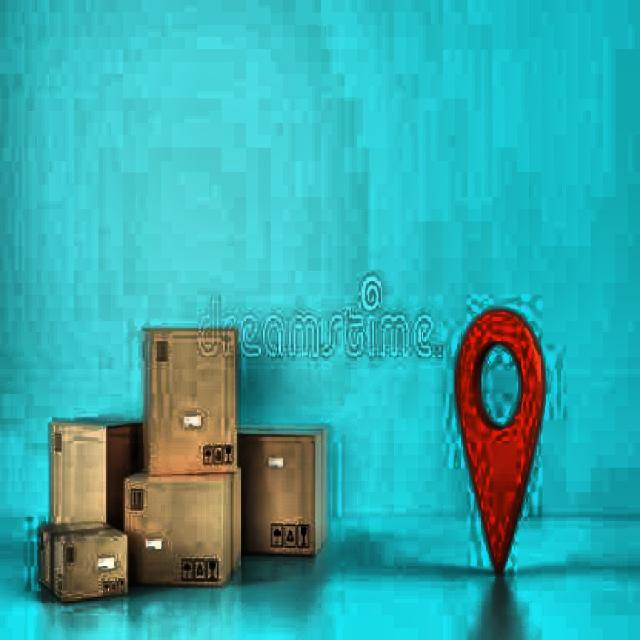Cardbox: (58, 322, 336, 596), (98, 325, 243, 616), (38, 525, 129, 605)
